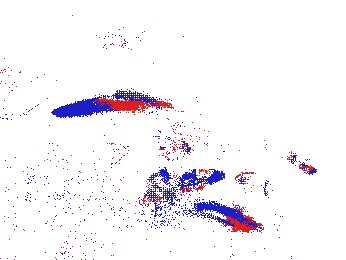X-ray fish: (97, 21, 167, 52), (147, 125, 191, 155)
red belly glassfish: (288, 151, 318, 177)
redtail glassfish: (107, 144, 190, 165), (235, 169, 272, 198)
